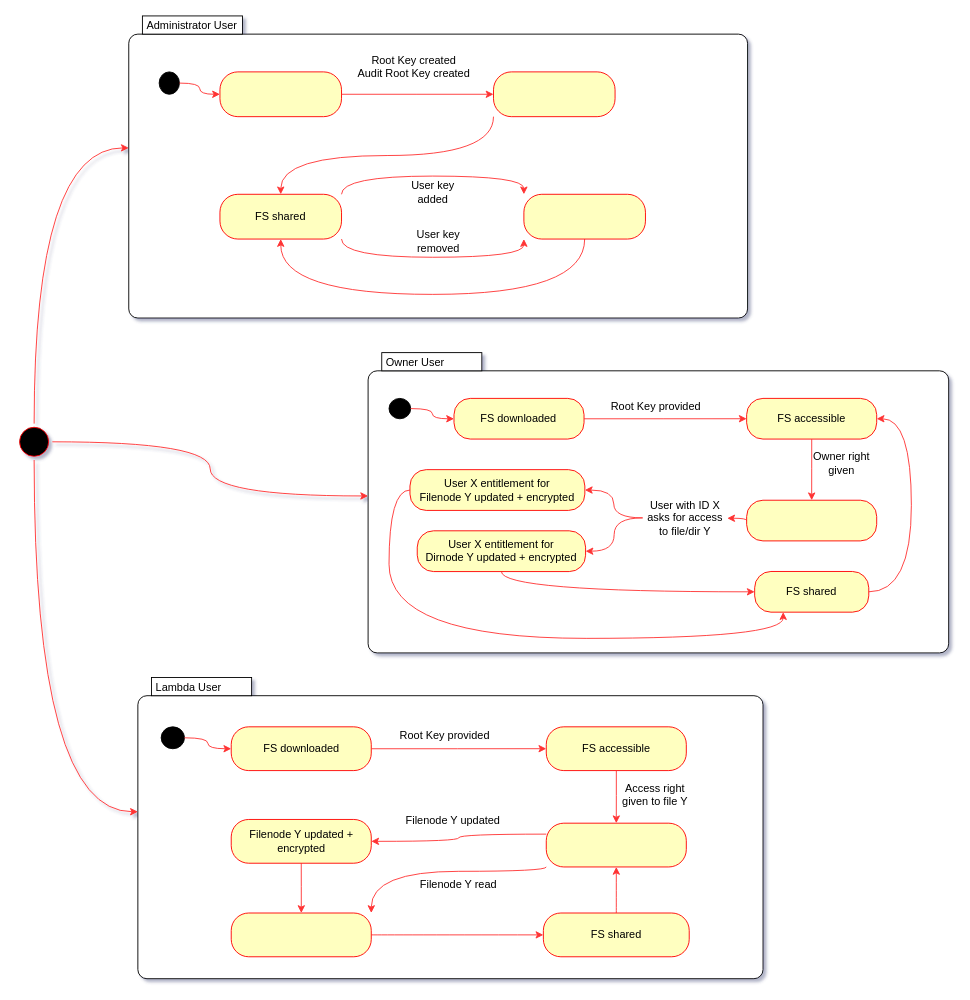
Image size: 970x1000. Some labels were removed from this diagram. The centre of each missing label's shape, as x and y in pixels:
"Audit entry created and encrypted" goes at (300,934).
"Filenode Y accessible" goes at (615,844).
"FS created" goes at (280,94).
"Part of the FS owned" goes at (811,520).
"Root Key shared Audit Root Key shared" goes at (554,94).
"Supernode updated + encrypted" goes at (584,216).
